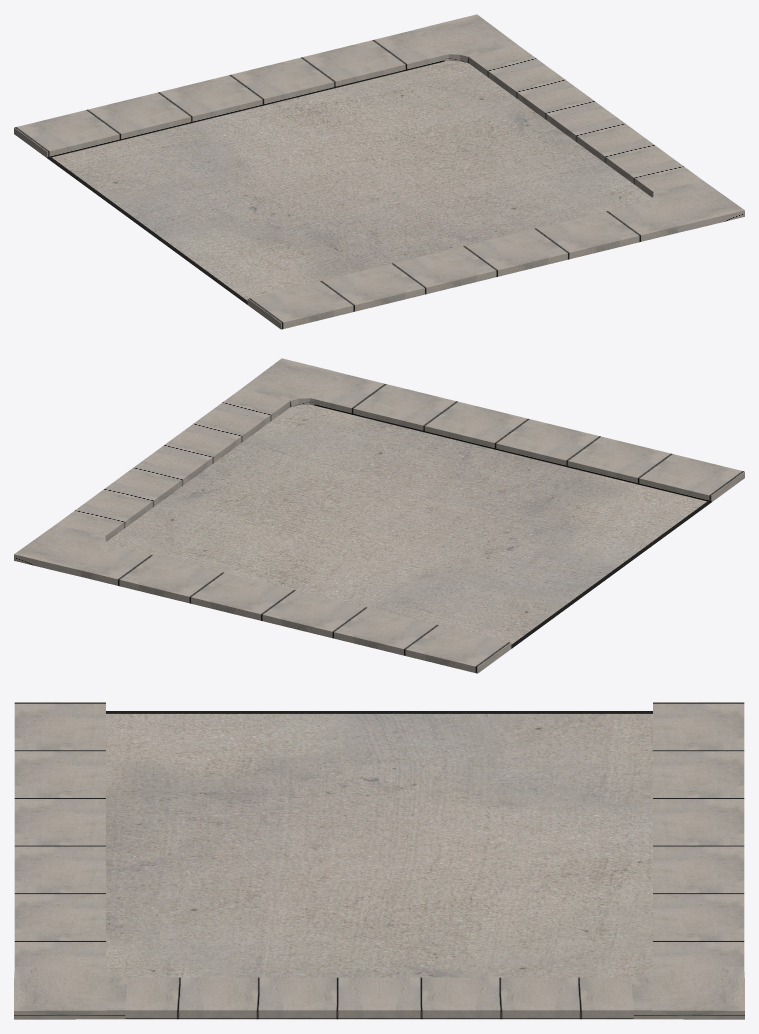
The model's file is end_street.obj.
The picture shows the model from 3 angles, top to bottom: view 1: azimuth 30°, elevation 25°; view 2: azimuth 150°, elevation 25°; view 3: azimuth 270°, elevation 25°; orthographic projection. The views are drawn at different scales.
Visible parts, largest first — view 1: rua_Plane.001, calsada.001_Plane.002; view 2: rua_Plane.001, calsada.001_Plane.002; view 3: rua_Plane.001, calsada.001_Plane.002.
Part boxes in pixels (x1,y1,x2,y2): rua_Plane.001: (47,60,651,304); calsada.001_Plane.002: (14,14,744,329); rua_Plane.001: (107,404,711,648); calsada.001_Plane.002: (14,358,744,673); rua_Plane.001: (106,711,652,993); calsada.001_Plane.002: (14,702,744,1019).
Bounding box in the file's own units: 16.02 × 0.2143 × 16.03.
